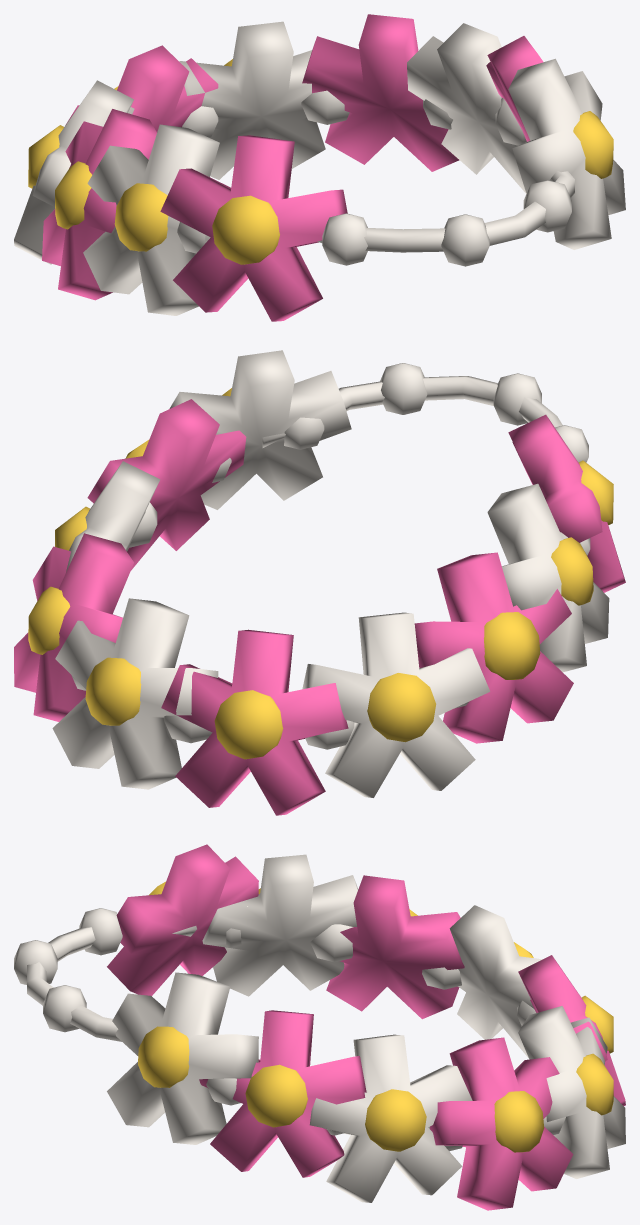
Rendered from collier_fleurs.fbx.
3 views of the same model, one above another, from view 1: azimuth 30°, elevation 25°; view 2: azimuth 150°, elevation 25°; view 3: azimuth 270°, elevation 25° (orthographic). The views are drawn at different scales.
Visible parts, largest first — view 1: Anim_Fleur_1, Anim_Fleur_2, Anim_Collier, Anim_Fleur_10, Anim_Fleur_7, Anim_Fleur_6, Anim_Fleur_8, Anim_Fleur_3, Anim_Fleur_4, Anim_Fleur_5, Anim_Fleur_9; view 2: Anim_Fleur_5, Anim_Fleur_4, Anim_Fleur_6, Anim_Fleur_3, Anim_Fleur_10, Anim_Fleur_7, Anim_Fleur_2, Anim_Collier, Anim_Fleur_9, Anim_Fleur_1, Anim_Fleur_8; view 3: Anim_Fleur_10, Anim_Fleur_7, Anim_Fleur_8, Anim_Fleur_9, Anim_Fleur_2, Anim_Fleur_1, Anim_Fleur_3, Anim_Collier, Anim_Fleur_6, Anim_Fleur_4, Anim_Fleur_5.
Boxes of the visible parts, x1,y1,x2,y2 form: Anim_Fleur_1: [160, 135, 347, 321]; Anim_Fleur_2: [83, 124, 219, 315]; Anim_Collier: [177, 90, 574, 266]; Anim_Fleur_10: [508, 58, 625, 249]; Anim_Fleur_7: [302, 14, 459, 171]; Anim_Fleur_6: [179, 21, 325, 179]; Anim_Fleur_8: [407, 23, 526, 193]; Anim_Fleur_3: [42, 109, 156, 300]; Anim_Fleur_4: [14, 80, 134, 264]; Anim_Fleur_5: [65, 45, 218, 132]; Anim_Fleur_9: [486, 36, 543, 141]; Anim_Fleur_5: [161, 629, 348, 815]; Anim_Fleur_4: [302, 612, 490, 797]; Anim_Fleur_6: [52, 598, 218, 789]; Anim_Fleur_3: [414, 552, 573, 743]; Anim_Fleur_10: [169, 350, 351, 509]; Anim_Fleur_7: [14, 533, 133, 721]; Anim_Fleur_2: [487, 483, 609, 672]; Anim_Collier: [71, 363, 590, 749]; Anim_Fleur_9: [87, 399, 246, 570]; Anim_Fleur_1: [508, 414, 625, 592]; Anim_Fleur_8: [55, 461, 160, 572]; Anim_Fleur_10: [107, 972, 258, 1144]; Anim_Fleur_7: [430, 1037, 573, 1210]; Anim_Fleur_8: [309, 1034, 472, 1202]; Anim_Fleur_9: [199, 1010, 366, 1177]; Anim_Fleur_2: [202, 854, 358, 996]; Anim_Fleur_1: [107, 844, 258, 995]; Anim_Fleur_3: [326, 875, 464, 1019]; Anim_Collier: [14, 906, 565, 1151]; Anim_Fleur_6: [518, 1006, 625, 1178]; Anim_Fleur_4: [449, 905, 542, 1058]; Anim_Fleur_5: [518, 955, 625, 1105].
Size of the model in its own units: 0.8238 by 0.3916 by 0.9717.
